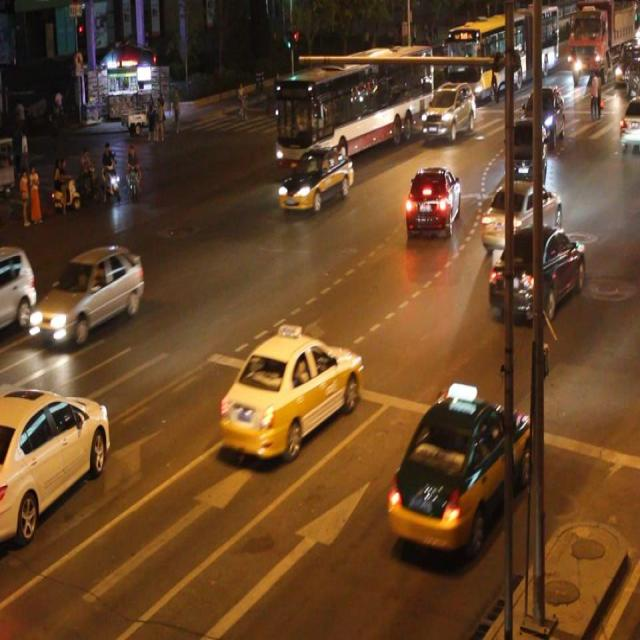car: (386, 395, 527, 552), (220, 331, 361, 460), (1, 388, 110, 541), (30, 243, 143, 344), (486, 226, 584, 318), (479, 179, 560, 252), (277, 146, 354, 212), (404, 164, 459, 239), (1, 245, 37, 333), (422, 82, 474, 140), (505, 118, 544, 191)
van: (278, 46, 432, 160)
